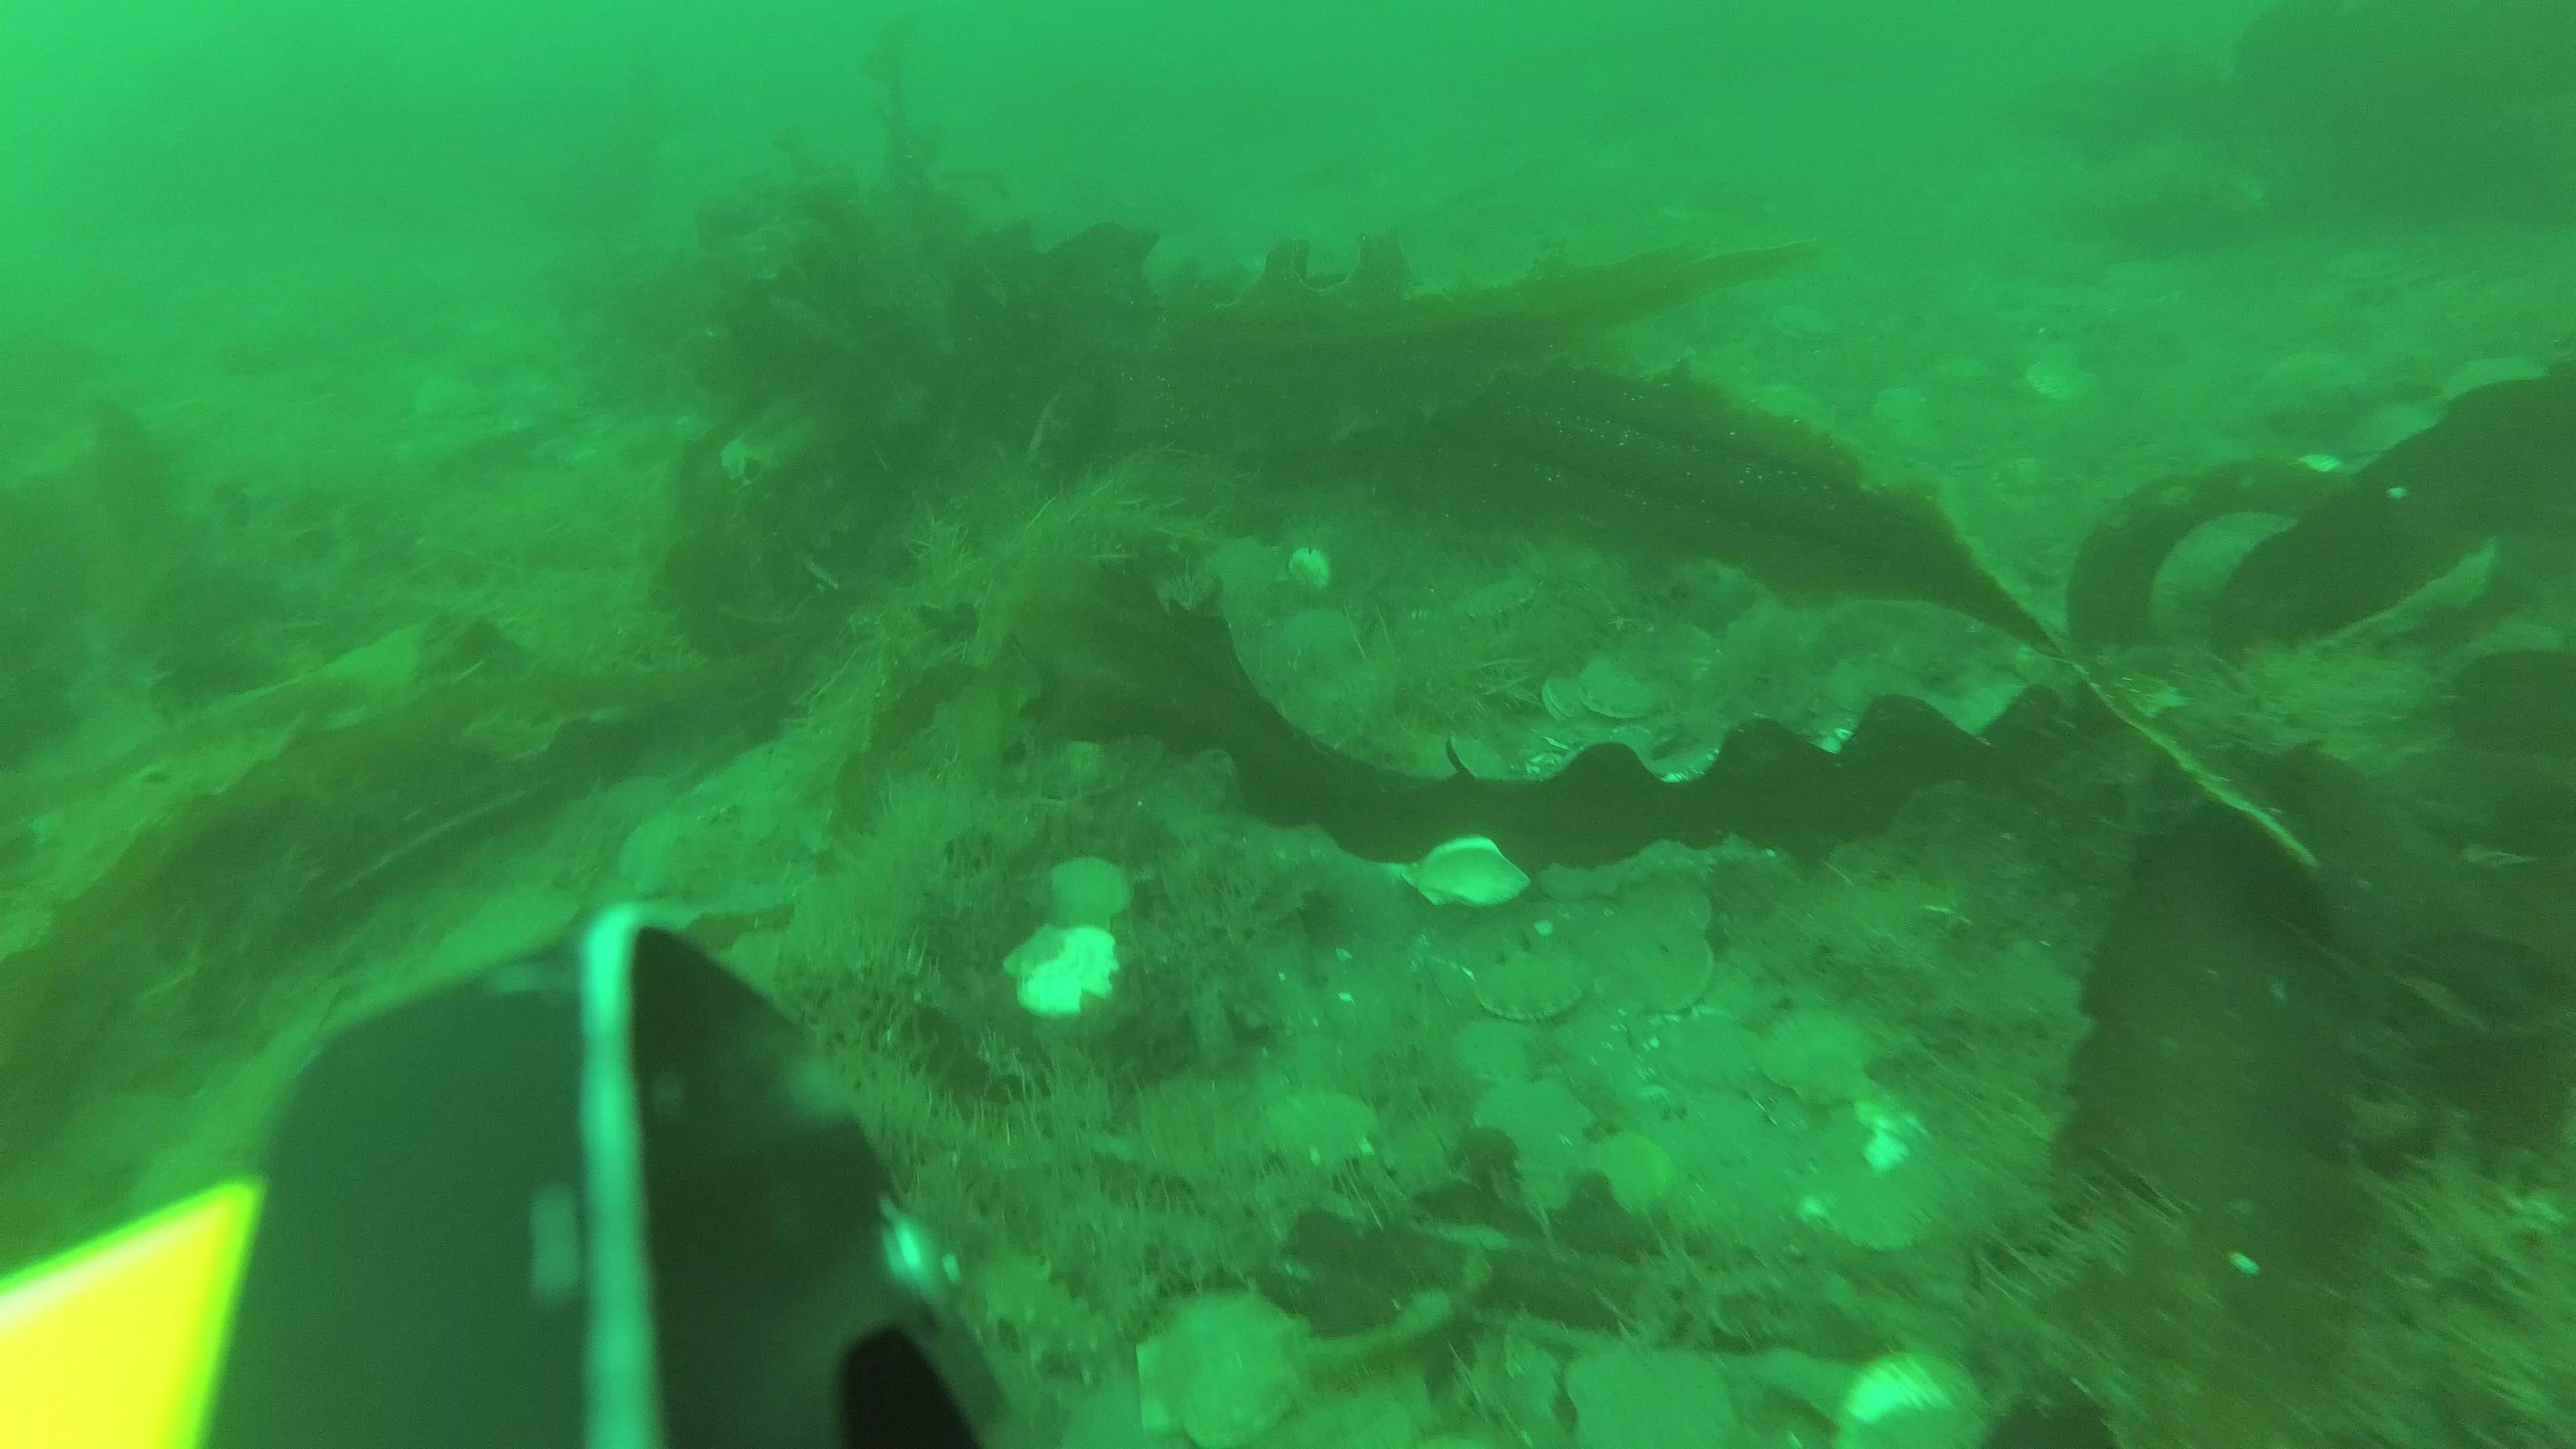holothurian: (957, 1235, 1138, 1396)
scallop: (1129, 1284, 1313, 1449), (1552, 1322, 1743, 1449), (1831, 1336, 2010, 1449), (1759, 991, 1891, 1120), (1801, 1138, 1948, 1253), (1461, 1069, 1598, 1180), (994, 916, 1131, 1024), (1394, 833, 1541, 927), (607, 800, 722, 911), (1254, 1086, 1387, 1175), (1472, 948, 1592, 1028), (1626, 925, 1716, 1024), (1044, 849, 1141, 936), (1573, 649, 1674, 727), (1629, 867, 1713, 952), (1281, 602, 1369, 667), (2017, 352, 2107, 409), (1463, 571, 1541, 626), (1767, 297, 1851, 347), (1529, 669, 1591, 729)
